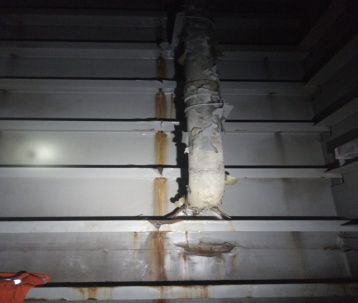corrosion: (142, 233, 173, 285), (176, 241, 245, 262), (142, 177, 177, 216), (287, 233, 316, 268), (147, 132, 172, 165), (277, 178, 301, 208), (181, 284, 219, 302), (72, 284, 102, 303), (149, 90, 171, 113), (151, 56, 174, 76), (275, 134, 291, 160), (264, 99, 280, 116)
